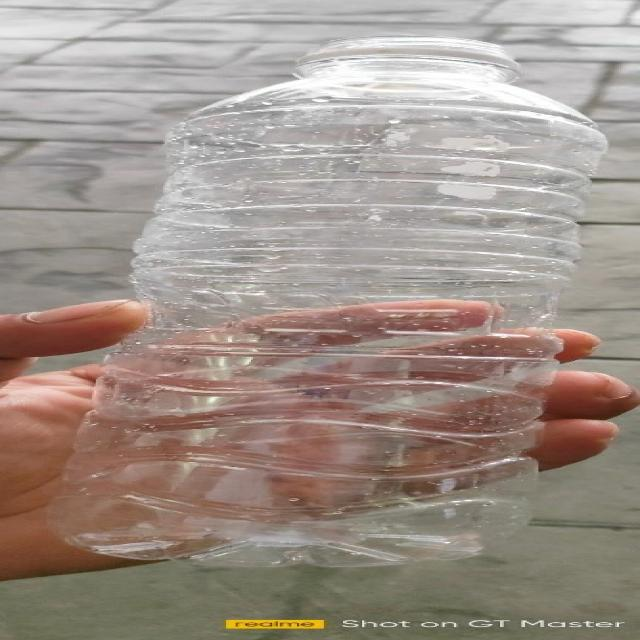plastic_bottle: (56, 35, 610, 565)
